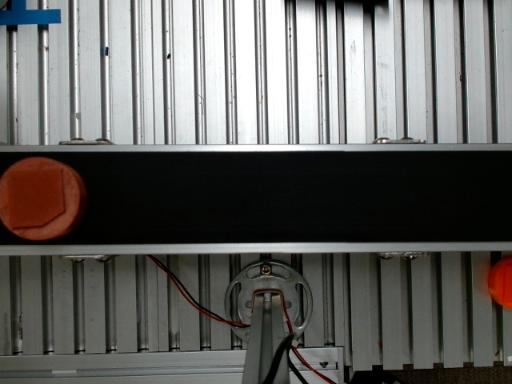Brown_Waper: (0, 157, 86, 240)
Not_Square: (5, 167, 66, 228)
